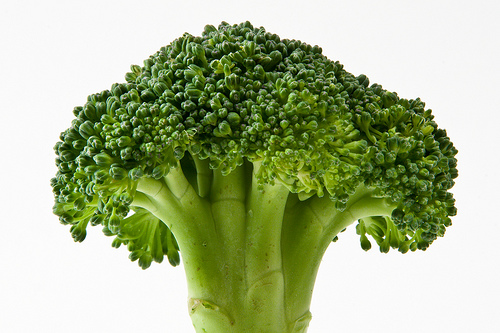broccoli: (50, 21, 458, 269)
